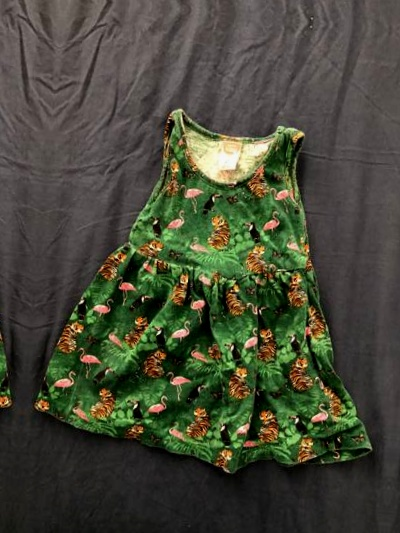Dress: (28, 91, 400, 504), (0, 54, 43, 467)
